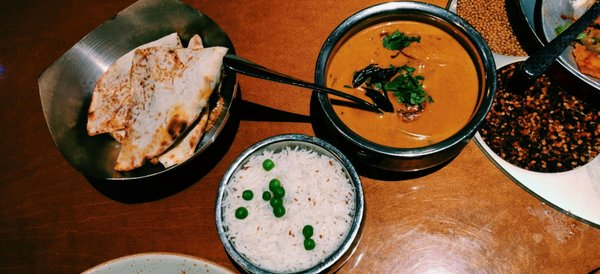salad: (221, 53, 387, 112)
sandwich: (507, 2, 600, 81)
sushi: (309, 2, 498, 179), (216, 133, 366, 271)
